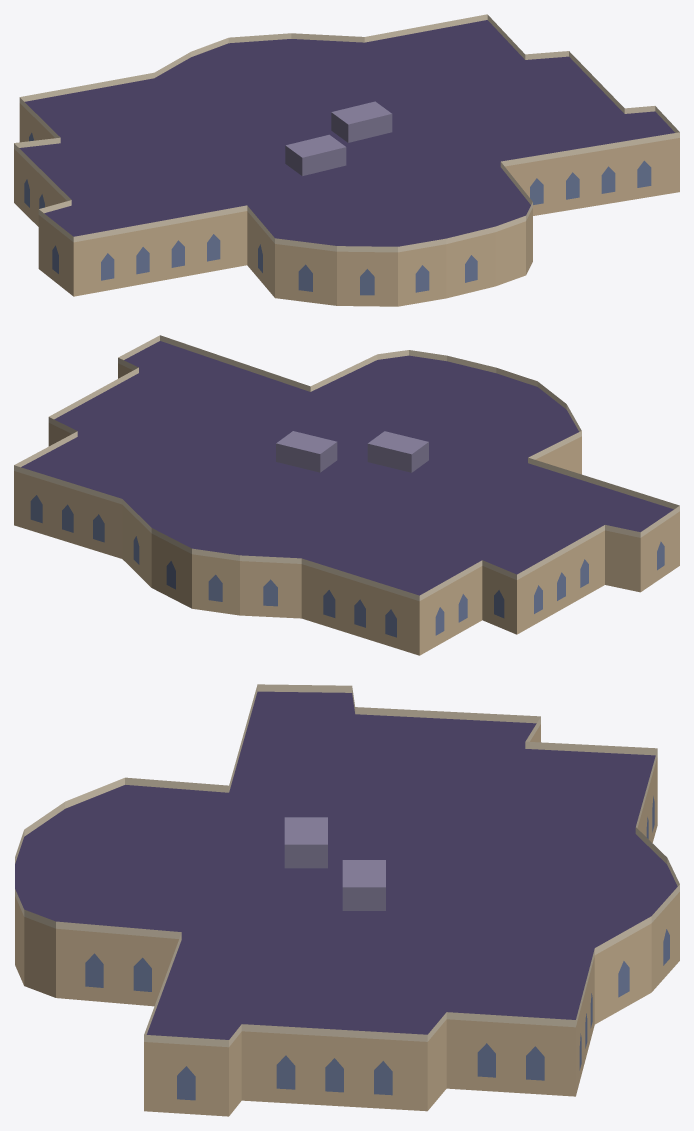
File: b-118-j-w-little-memorial-building-day.glb
The picture shows the model from 3 angles, top to bottom: view 1: azimuth 30°, elevation 25°; view 2: azimuth 150°, elevation 25°; view 3: azimuth 270°, elevation 25°; orthographic projection. The views are drawn at different scales.
Parts seen in each view (by area): view 1: campus/b-118-j-w-little-memorial-building-day-0; view 2: campus/b-118-j-w-little-memorial-building-day-0; view 3: campus/b-118-j-w-little-memorial-building-day-0.
Part boxes in pixels (box(x1,y1,x2,y2)): campus/b-118-j-w-little-memorial-building-day-0: box(14, 14, 679, 306); campus/b-118-j-w-little-memorial-building-day-0: box(14, 335, 679, 655); campus/b-118-j-w-little-memorial-building-day-0: box(15, 684, 679, 1116).
Bounding box in the file's own units: 58.3 × 7.1 × 46.14.
